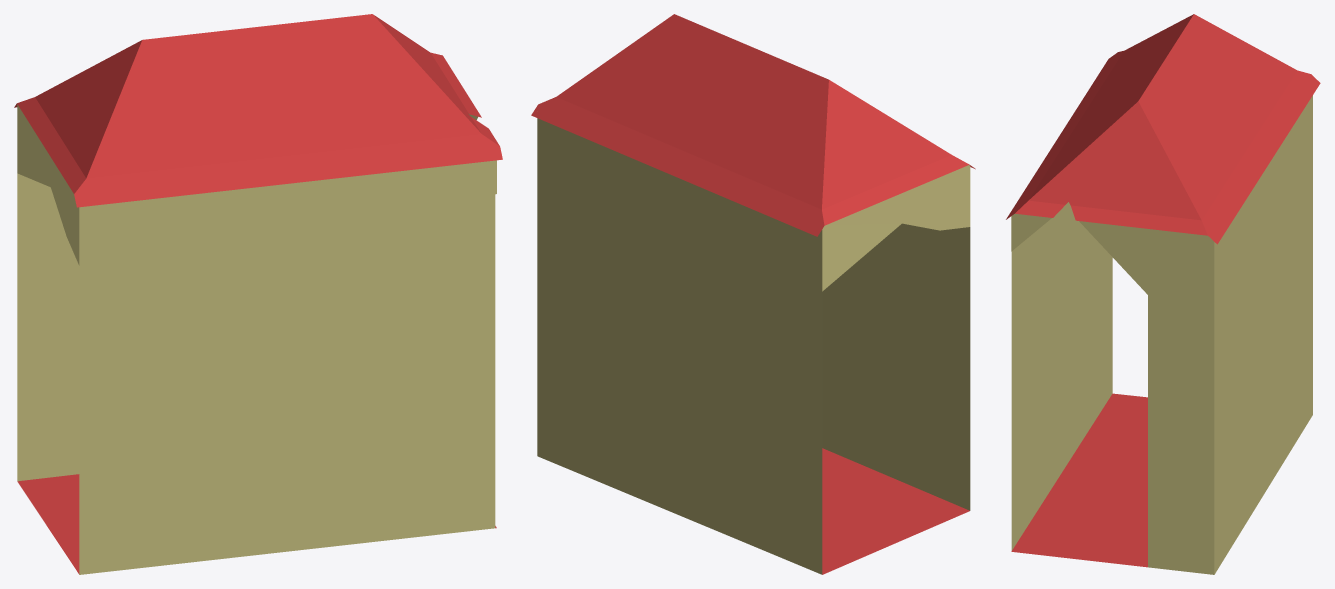
3 views of the same model, side by side, from view 1: azimuth 30°, elevation 25°; view 2: azimuth 150°, elevation 25°; view 3: azimuth 270°, elevation 25° (orthographic). The views are drawn at different scales.
Size of the model in its own units: 26.09 by 18.72 by 27.97.
